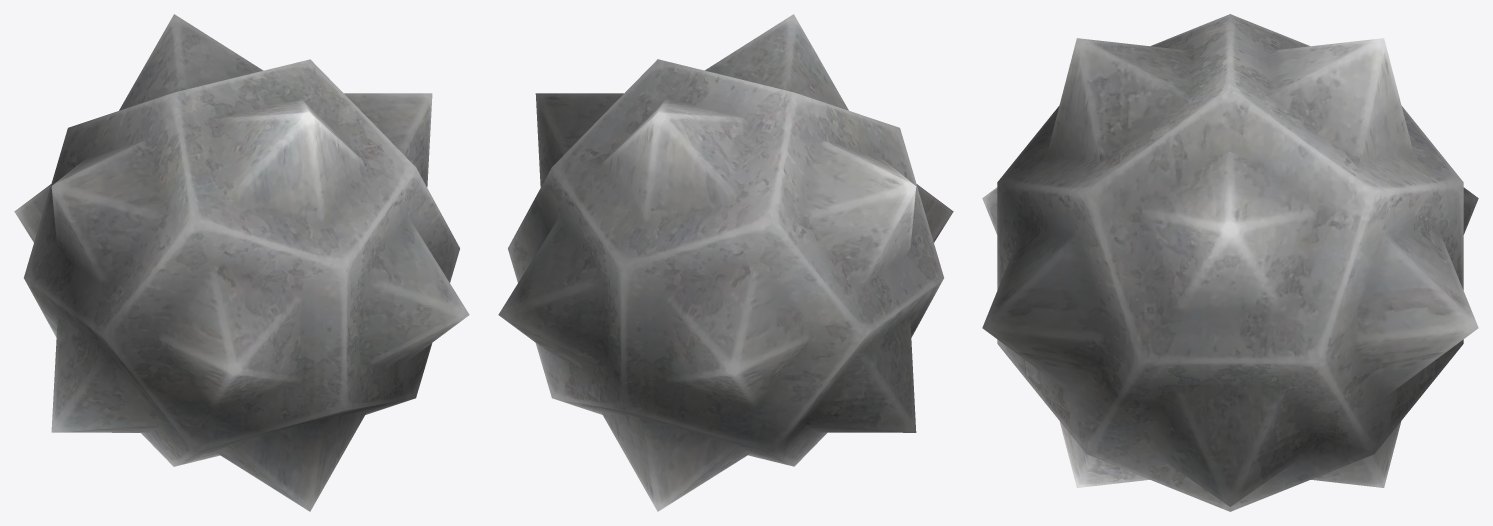
Rendered from spiked_ball.glb.
3 views of the same model, side by side, from view 1: azimuth 30°, elevation 25°; view 2: azimuth 150°, elevation 25°; view 3: azimuth 270°, elevation 25° (orthographic). The views are drawn at different scales.
Visible parts, largest first — view 1: Projectile2HP_map1_0; view 2: Projectile2HP_map1_0; view 3: Projectile2HP_map1_0.
Part boxes in pixels (bbox=[...]): Projectile2HP_map1_0: bbox=[14, 14, 469, 511]; Projectile2HP_map1_0: bbox=[498, 14, 953, 511]; Projectile2HP_map1_0: bbox=[982, 14, 1478, 511].
Bounding box in the file's own units: 47.76 × 47.76 × 47.76.
Materials: 1 (1 with a texture image).
